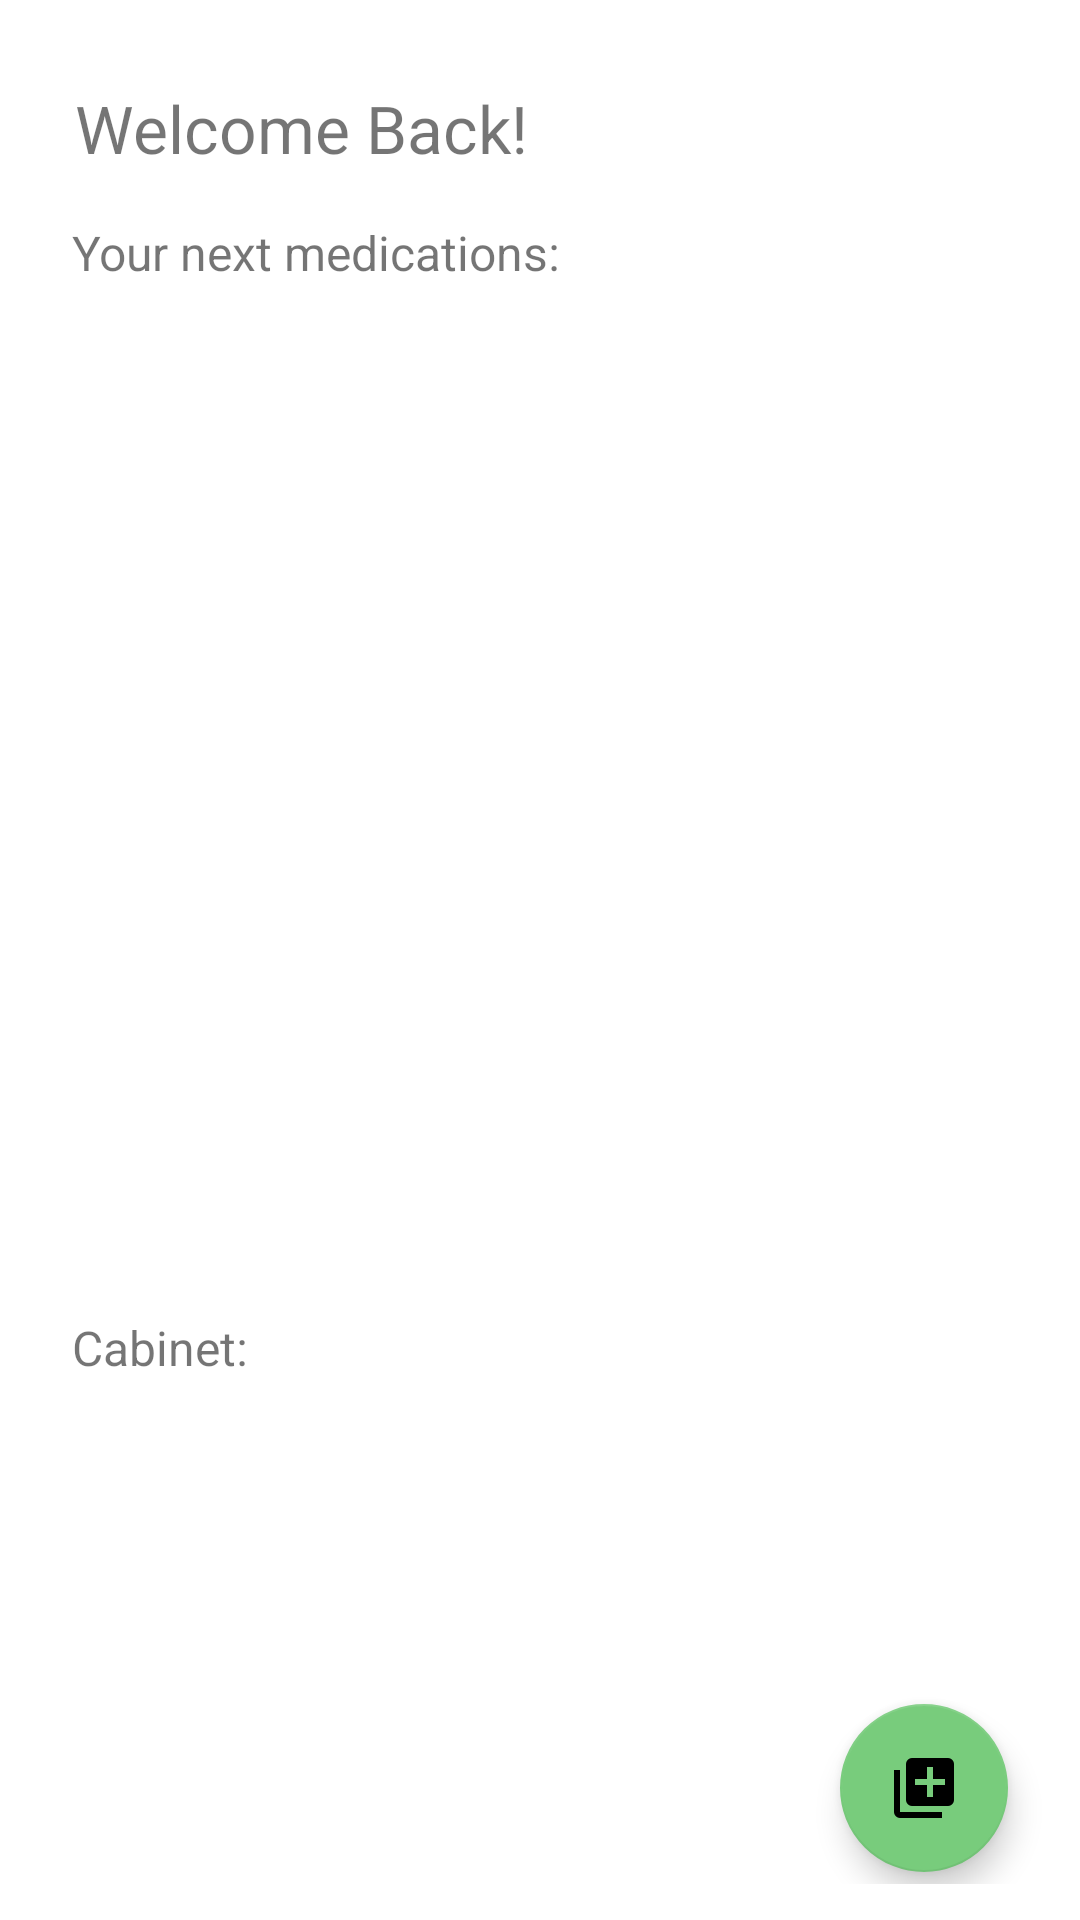

Named icons in this screenshot (1080 × 1920) and their bounding boxes, (x1, y1, x2, y2):
plus box multiple: (840, 1704, 1008, 1872)
